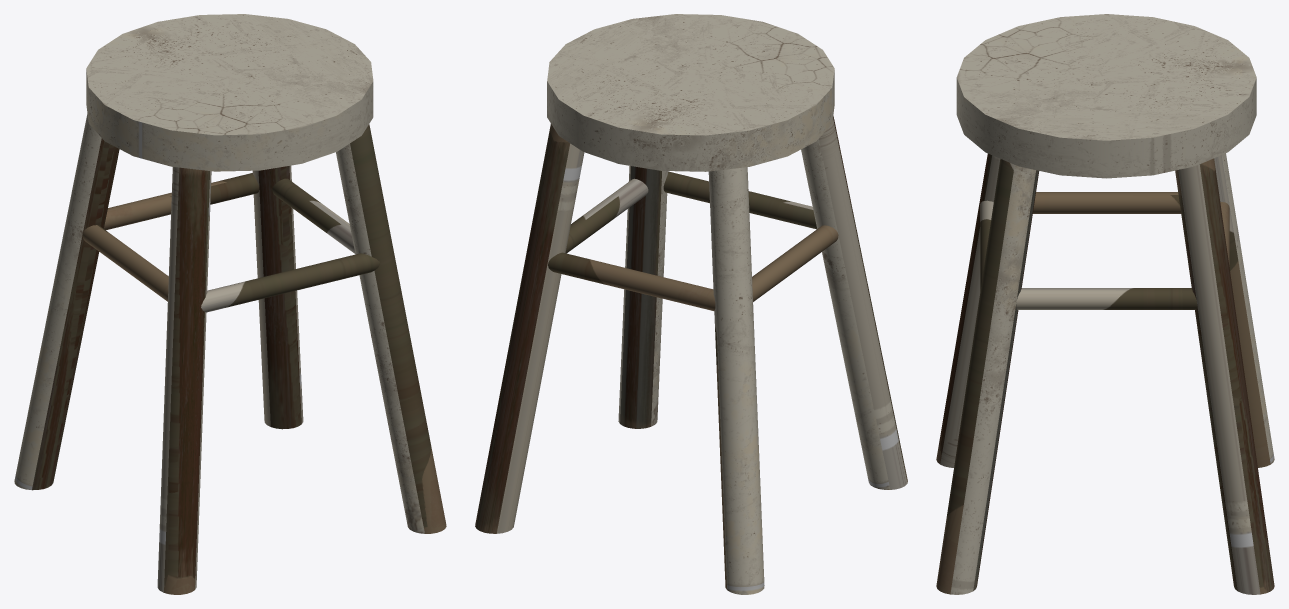
File: stool.fbx
The picture shows the model from 3 angles, left to right: view 1: azimuth 30°, elevation 25°; view 2: azimuth 150°, elevation 25°; view 3: azimuth 270°, elevation 25°; orthographic projection. The views are drawn at different scales.
Visible parts, largest first — view 1: pCylinder1, pCylinder3, pCylinder2, pCylinder5, pCylinder4; view 2: pCylinder1, pCylinder2, pCylinder3, pCylinder5, pCylinder4; view 3: pCylinder1, pCylinder2, pCylinder3, pCylinder4, pCylinder5.
Part boxes in pixels (bbox=[...]): pCylinder1: bbox=[86, 14, 373, 171]; pCylinder3: bbox=[157, 124, 446, 594]; pCylinder2: bbox=[14, 114, 303, 490]; pCylinder5: bbox=[104, 173, 380, 312]; pCylinder4: bbox=[82, 178, 355, 301]; pCylinder1: bbox=[547, 14, 834, 171]; pCylinder2: bbox=[475, 124, 764, 594]; pCylinder3: bbox=[618, 116, 907, 489]; pCylinder5: bbox=[548, 171, 816, 310]; pCylinder4: bbox=[565, 178, 838, 301]; pCylinder1: bbox=[956, 14, 1256, 178]; pCylinder2: bbox=[1175, 153, 1274, 594]; pCylinder3: bbox=[936, 153, 1039, 594]; pCylinder4: bbox=[1016, 192, 1196, 309]; pCylinder5: bbox=[980, 200, 1229, 290].
Bounding box in the file's own units: 2.27 × 3.28 × 2.26.
Materials: 1 (1 with a texture image).
